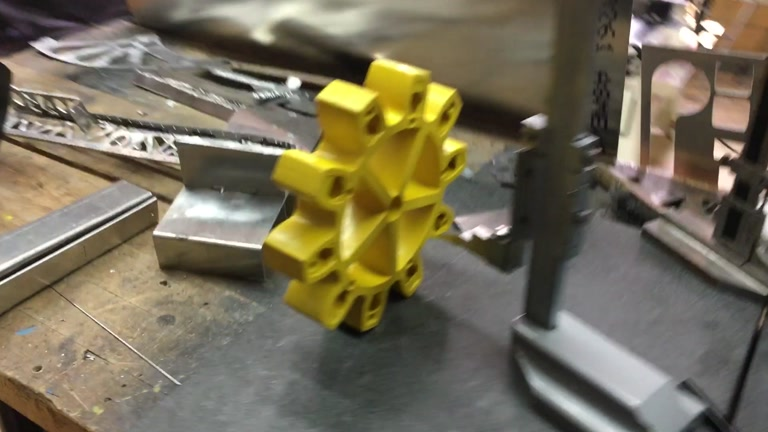gear: (261, 58, 466, 332)
